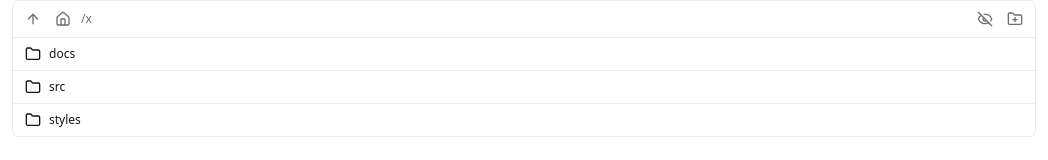
Test: WorkspacePicker listing filter › narrows the listing to entries matching the typed fragment
Check: the button with test id "workspace-picker-entry-src" is shown, box 13,71 -> 1035,104
Check: the button with test id "workspace-picker-entry-docs" is shown, box 13,38 -> 1035,71
Note: Typing "s" keeps only the names starting with "s".
Replace the text in the field with test id "workspace-picker-path-input" with "s" at (524, 19), box 81,11 -> 967,27
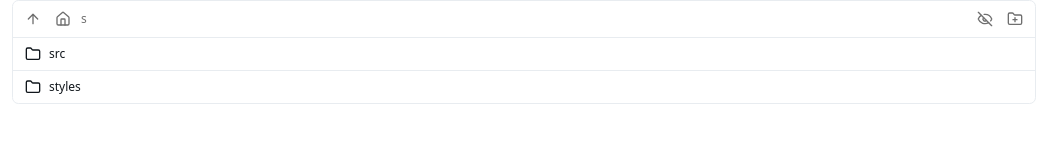
Check: the button with test id "workspace-picker-entry-src" is shown, box 13,38 -> 1035,71
Check: the button with test id "workspace-picker-entry-docs" is gone
